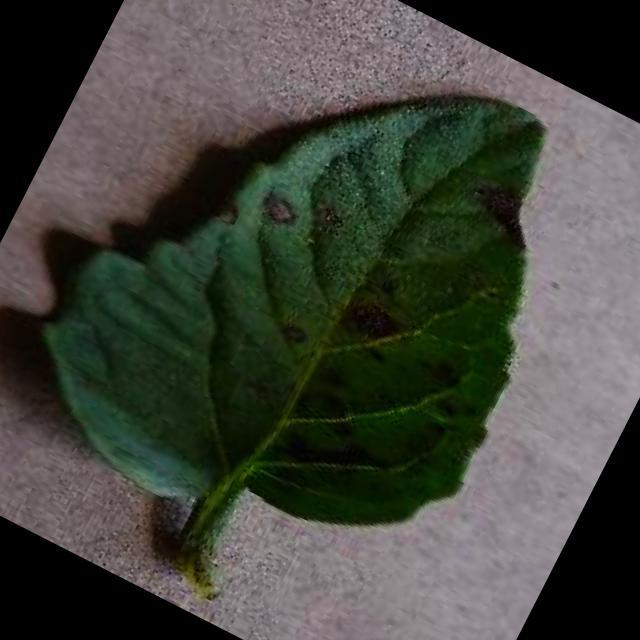Tomato Early blight leaf: (2, 0, 623, 619)
